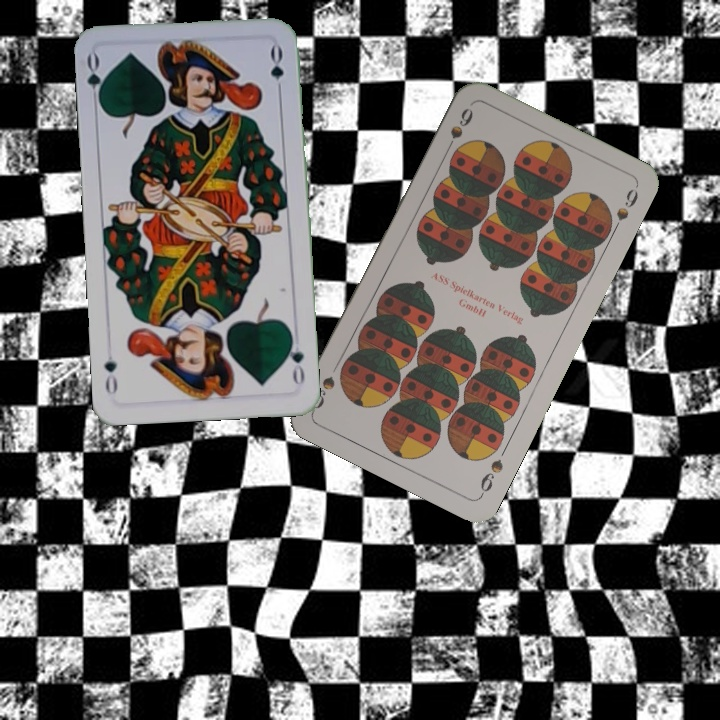GO: (83, 50, 109, 110), (283, 331, 307, 387)
S9: (441, 103, 476, 157), (476, 455, 506, 499)
